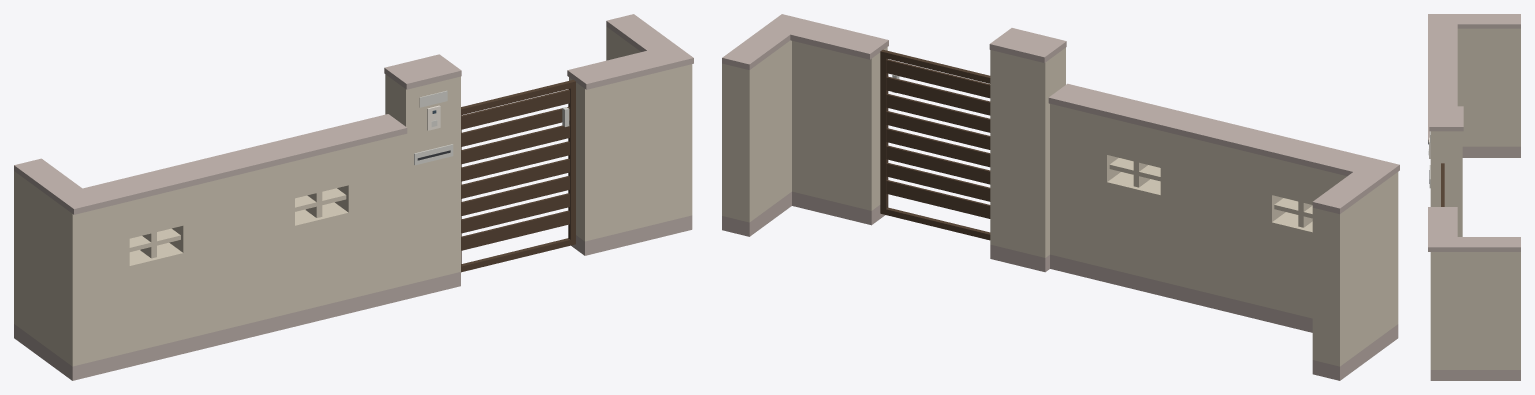
The model's file is SM_Lot_FrontWall_Plaster_450_01.fbx.
3 renders of one model, left to right at view 1: azimuth 30°, elevation 25°; view 2: azimuth 150°, elevation 25°; view 3: azimuth 270°, elevation 25°, orthographic. The views are drawn at different scales.
Visible parts, largest first — view 1: SM_Lot_FrontWall_Plaster_450_01; view 2: SM_Lot_FrontWall_Plaster_450_01; view 3: SM_Lot_FrontWall_Plaster_450_01.
Part boxes in pixels (bbox=[...]): SM_Lot_FrontWall_Plaster_450_01: bbox=[14, 14, 693, 380]; SM_Lot_FrontWall_Plaster_450_01: bbox=[722, 14, 1399, 380]; SM_Lot_FrontWall_Plaster_450_01: bbox=[1428, 14, 1520, 380].
Size of the model in its own units: 4.5 by 1.5 by 0.755.
1 material, 1 textured.
